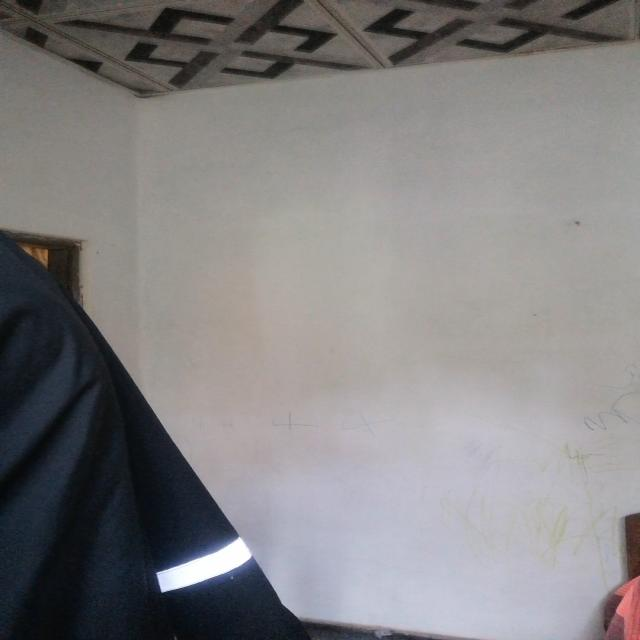Jacket_Wearer: (0, 232, 286, 633)
